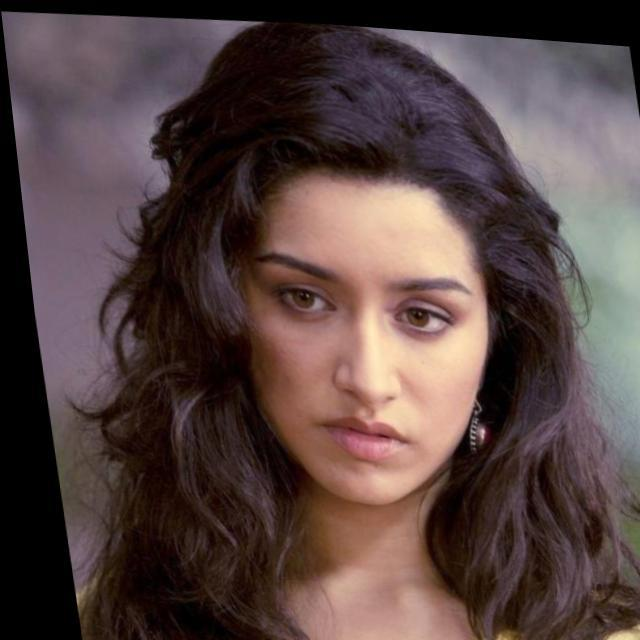Nonhelmet: (200, 94, 550, 510)
